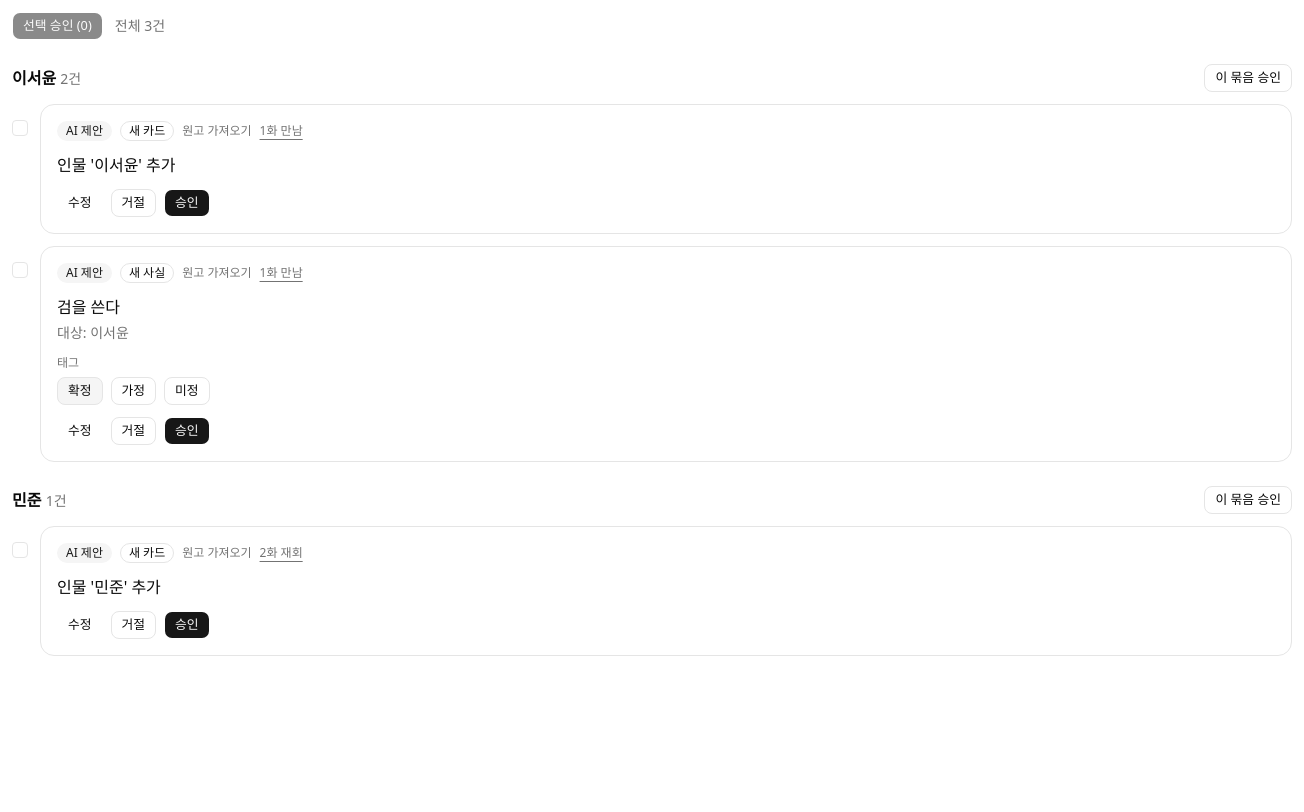
Test: ProposalList › approves a whole card group at once and removes it from the list
Click the 1st button "이 묶음 승인".
click(1248, 78)  # box [1204, 64, 1292, 92]
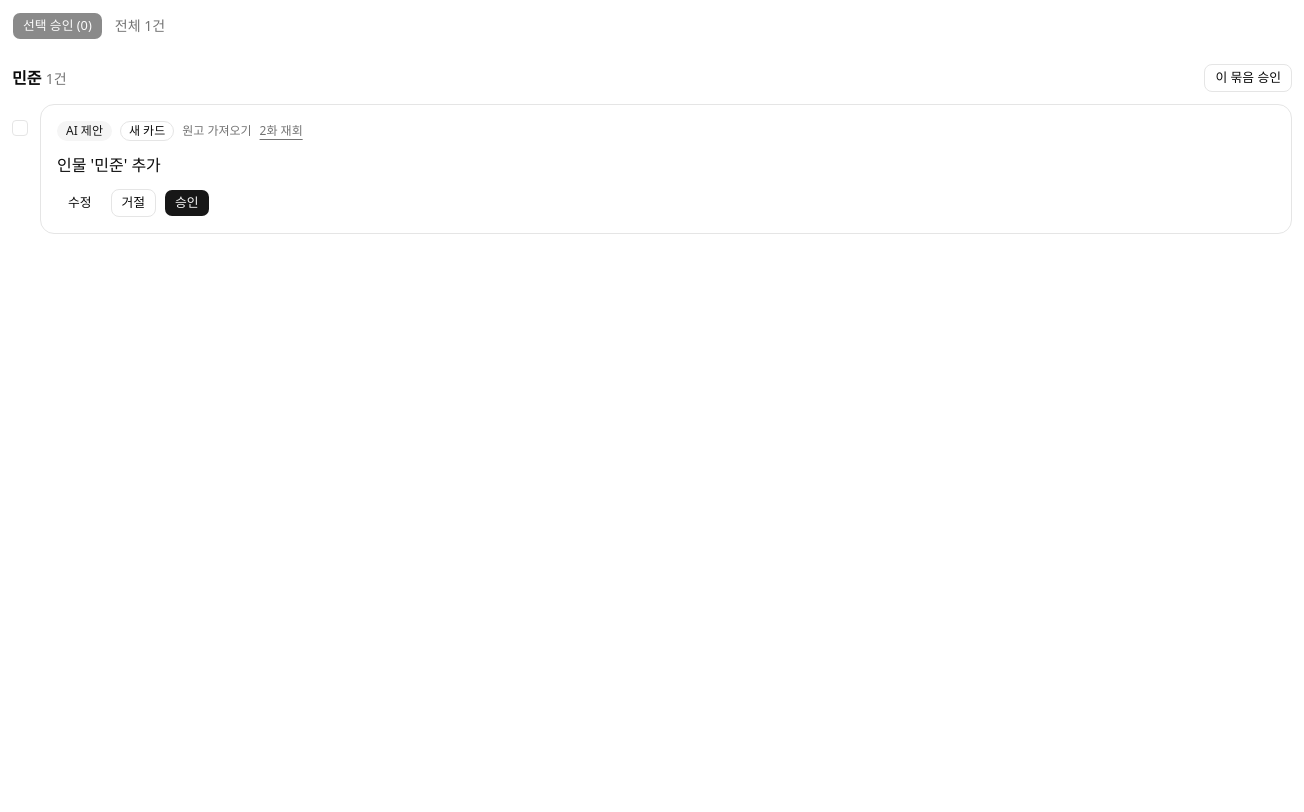
Expected: the element "민준" is shown, [12, 64, 1292, 234]
Now the heading "이서윤" is gone
